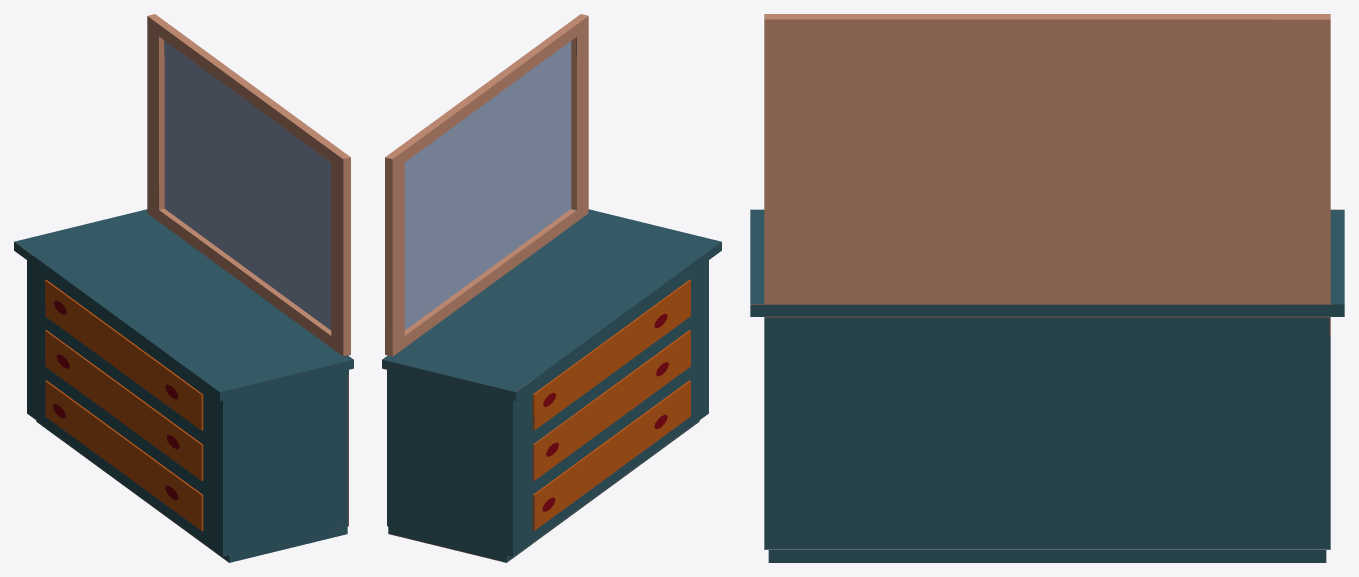
The model's file is Tocador.obj.
The picture shows the model from 3 angles, left to right: view 1: azimuth 30°, elevation 25°; view 2: azimuth 150°, elevation 25°; view 3: azimuth 270°, elevation 25°; orthographic projection. The views are drawn at different scales.
Parts seen in each view (by area): view 1: Cube.011_Cube.020; view 2: Cube.011_Cube.020; view 3: Cube.011_Cube.020.
Boxes of the visible parts, x1=… form: Cube.011_Cube.020: x1=14, y1=14, x2=353, y2=562; Cube.011_Cube.020: x1=382, y1=14, x2=721, y2=562; Cube.011_Cube.020: x1=750, y1=14, x2=1344, y2=562.
Size of the model in its own units: 7.56 by 20.01 by 19.79.
1 material, 1 textured.
